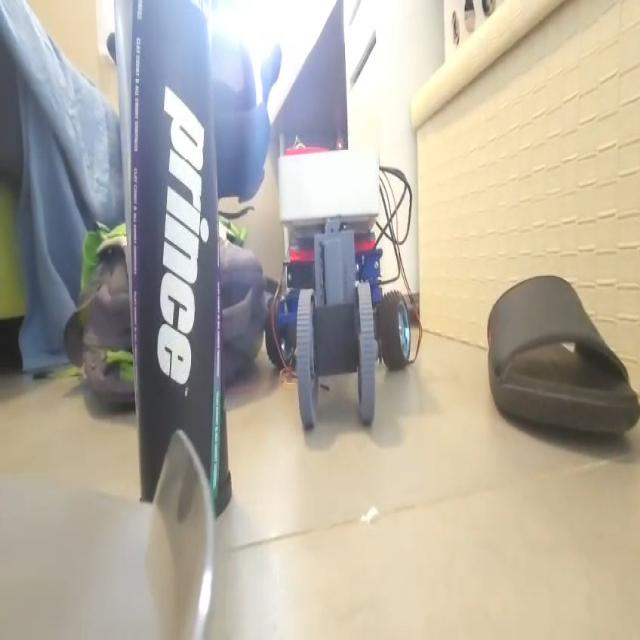Robot: (266, 143, 411, 430)
